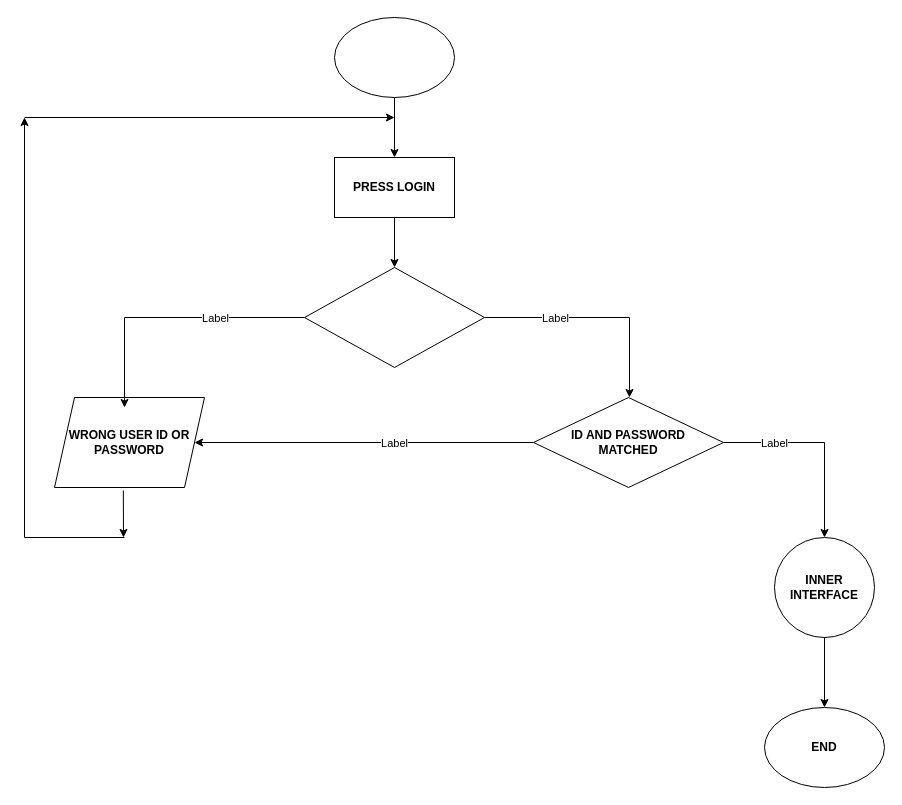
The diagram is 902 pixels wide and 805 high, and some of its shapes have lost their labels. The shapes that lost their labels are listed below. From the top down, each one's centre as x and y in pixels, then its label:
point 394,57: START
point 394,317: STUDENT ROLL NUMBER
